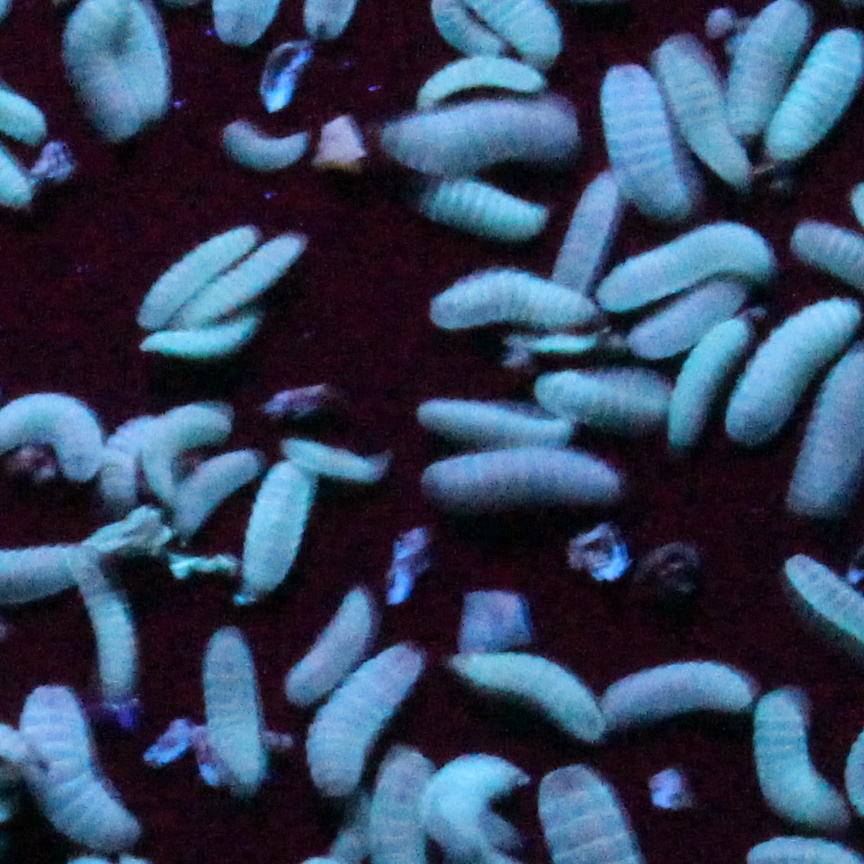larve: (305, 641, 427, 808), (582, 221, 785, 321), (27, 686, 142, 848), (575, 56, 690, 213), (192, 621, 277, 816), (735, 676, 842, 826), (447, 648, 610, 746), (645, 31, 750, 181), (427, 441, 630, 516), (385, 108, 592, 176), (132, 216, 257, 316), (725, 3, 812, 143), (192, 233, 302, 341), (232, 458, 310, 606), (130, 291, 267, 373), (420, 391, 590, 456), (532, 353, 682, 426), (295, 583, 380, 711), (427, 263, 597, 326), (592, 656, 757, 718), (667, 308, 735, 446), (147, 403, 235, 506), (627, 283, 757, 351), (420, 168, 547, 236), (85, 398, 162, 506), (552, 178, 632, 281), (412, 48, 547, 108), (190, 446, 252, 553), (287, 428, 397, 488), (220, 121, 315, 183)
